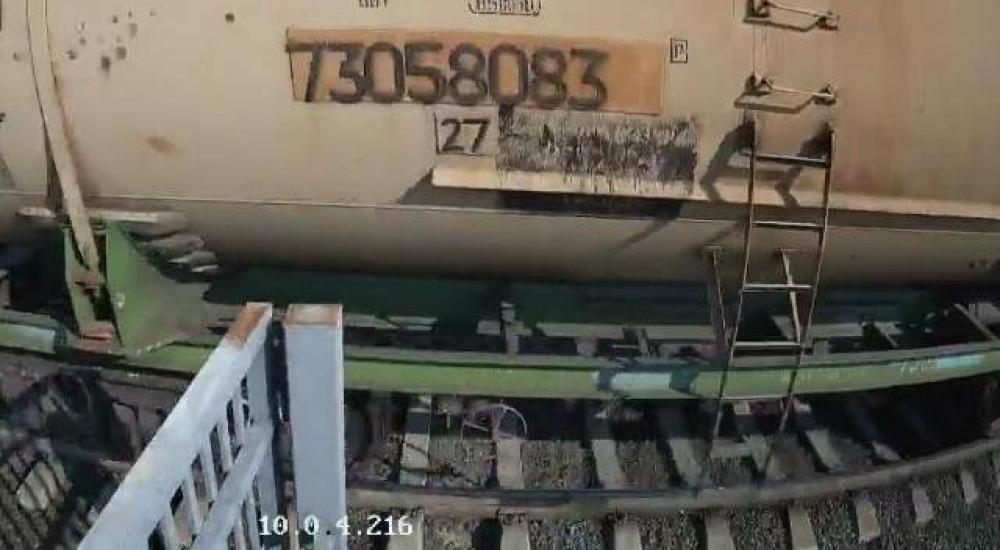Wagon-number: (287, 32, 618, 112)
